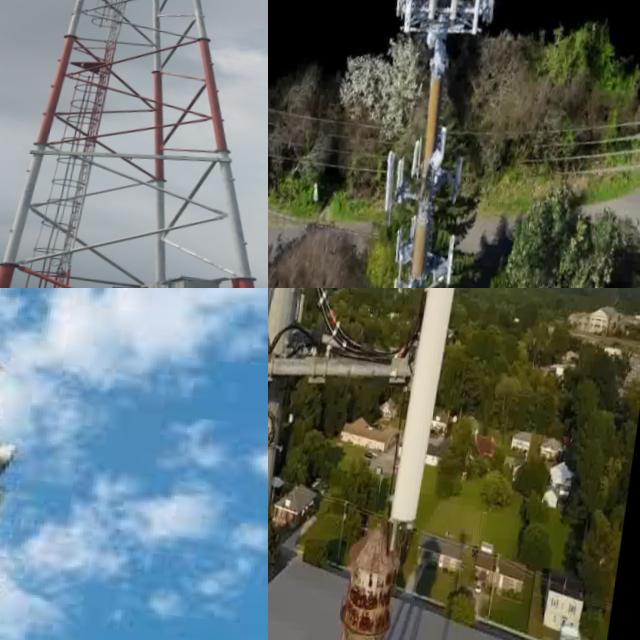GSM Antenna: (397, 288, 464, 528), (268, 288, 320, 396), (381, 144, 411, 217), (446, 228, 469, 286), (440, 122, 458, 176), (400, 220, 416, 269), (444, 0, 469, 31), (467, 0, 488, 36), (457, 153, 472, 198), (415, 134, 431, 173), (401, 0, 424, 26), (425, 0, 443, 22), (412, 278, 423, 288), (398, 280, 410, 288)
Microwave Antenna: (0, 433, 27, 480), (0, 483, 13, 547)
